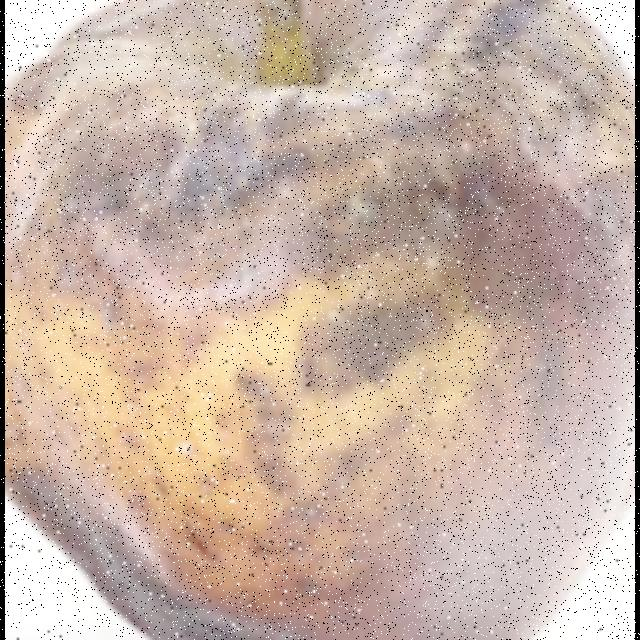Apel Tidak Segar: (5, 0, 636, 640)
